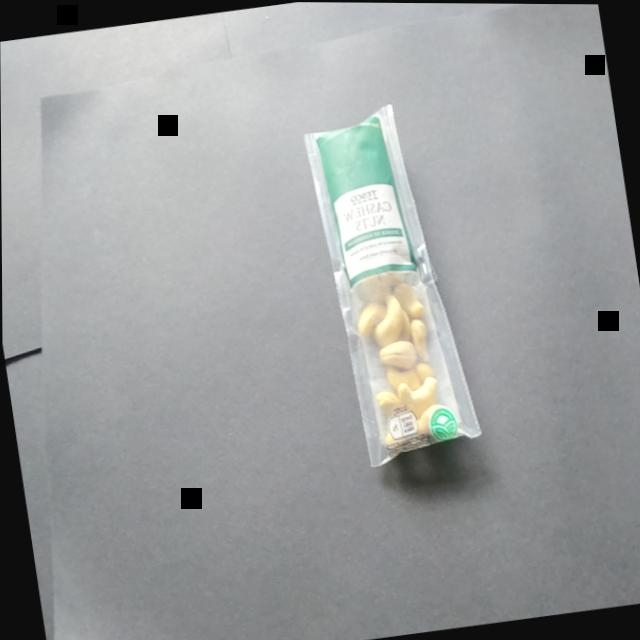Cashewnut: (285, 80, 492, 484)
